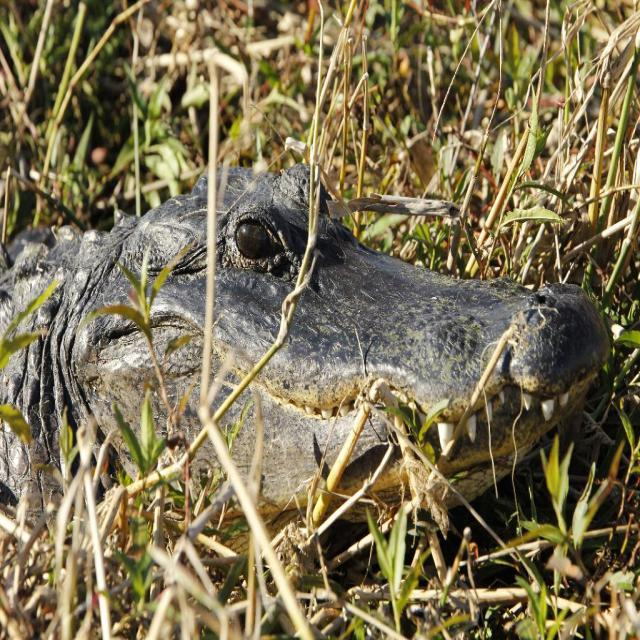crocodile: (0, 125, 627, 565)
